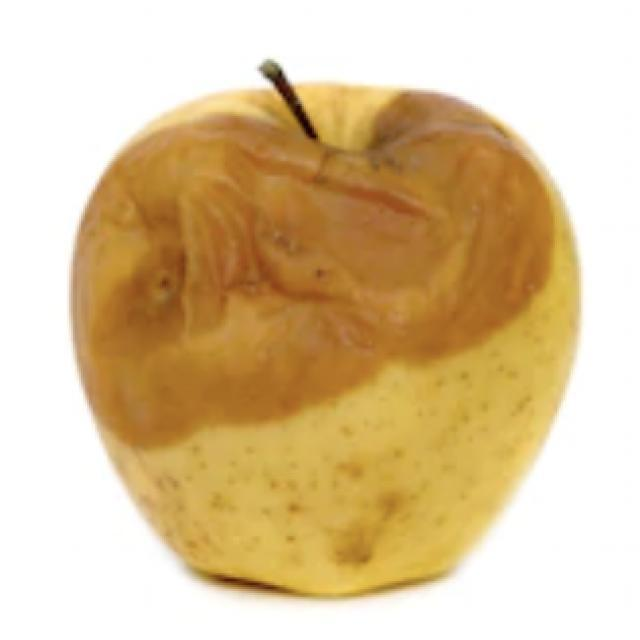Rotten: (90, 65, 578, 627)
